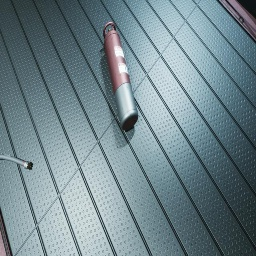NitrogenTank ,: (103, 22, 138, 130)
